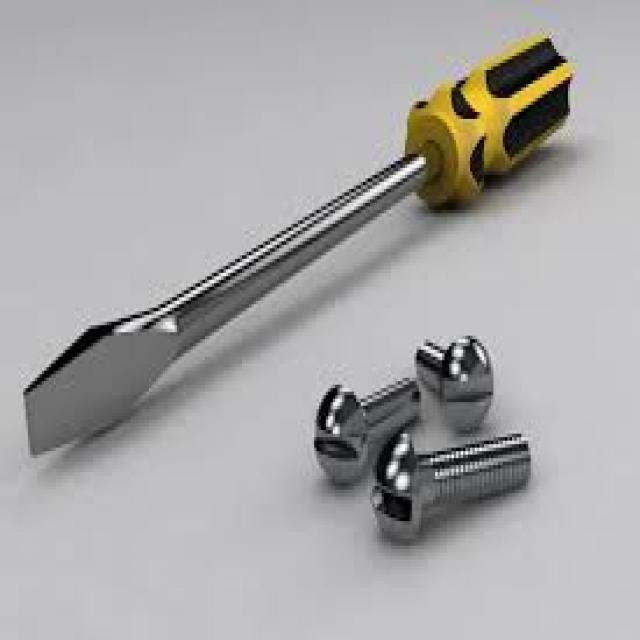screwdriver: (18, 28, 574, 462)
